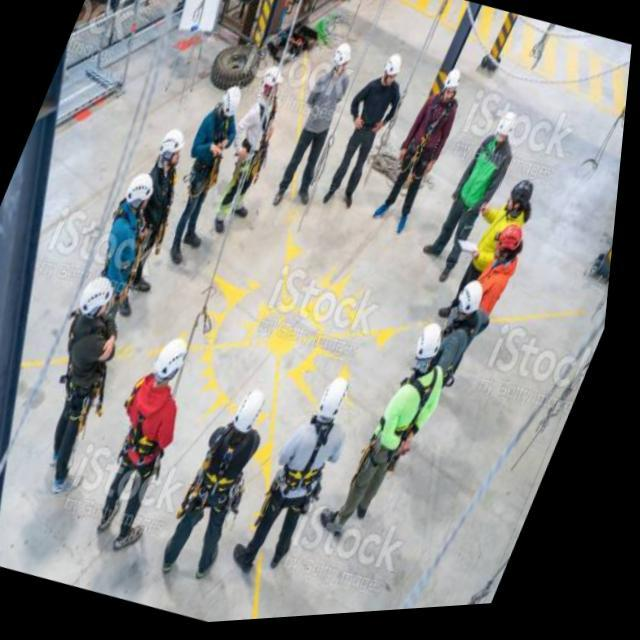belt: (37, 302, 139, 431), (372, 364, 460, 491), (80, 195, 174, 313), (108, 378, 204, 490), (274, 418, 356, 538), (188, 420, 276, 531), (118, 152, 202, 260), (214, 94, 293, 200), (175, 100, 251, 208), (394, 91, 469, 196), (422, 305, 495, 398)
